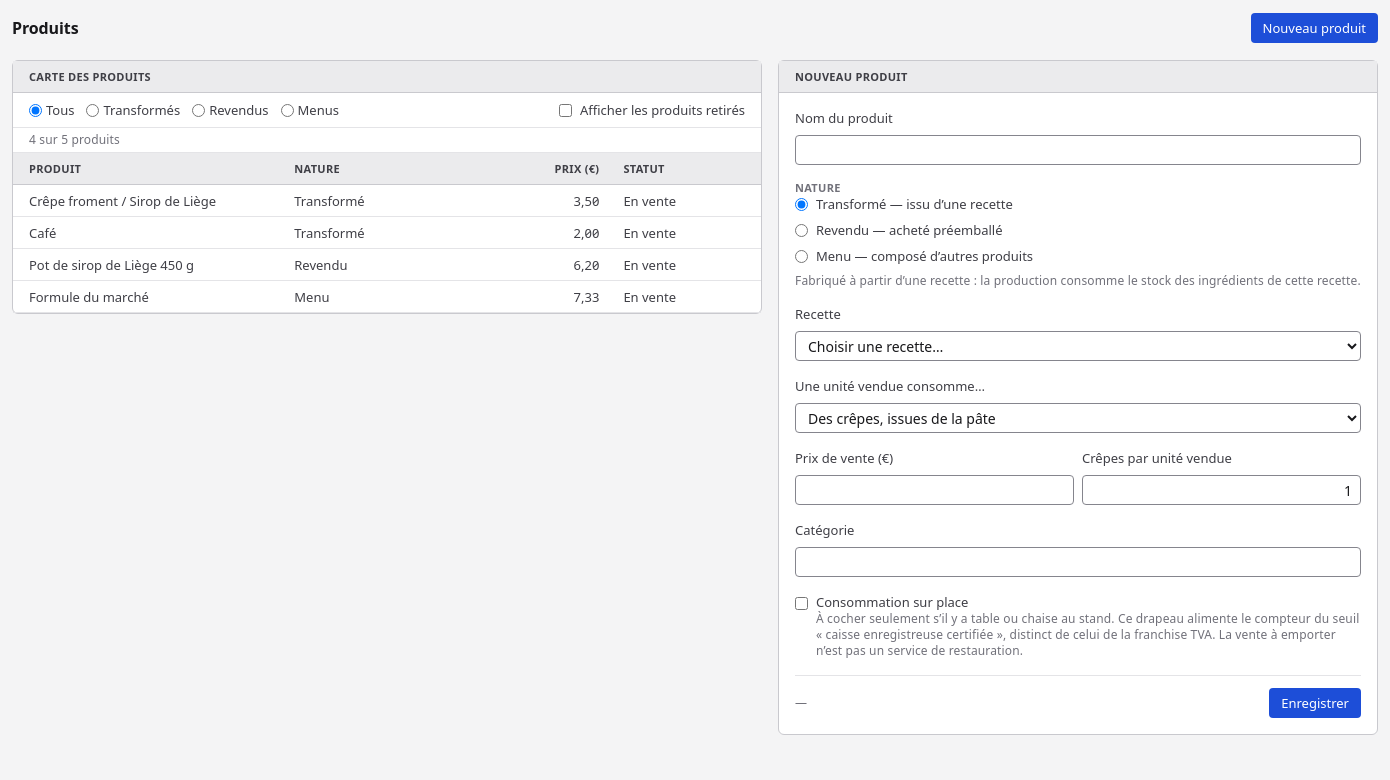
Test: Produits — un coût de revient inconnu ne vaut jamais zéro › un REVENDU sans conditionnement actif renvoie vers l’achat, pas vers une recette qu’il n’a pas
Click the row "Pot de sirop de Liège 450 g Revendu 6,20 En vente". click: {"x": 387, "y": 265}
box: [13,249,761,281]
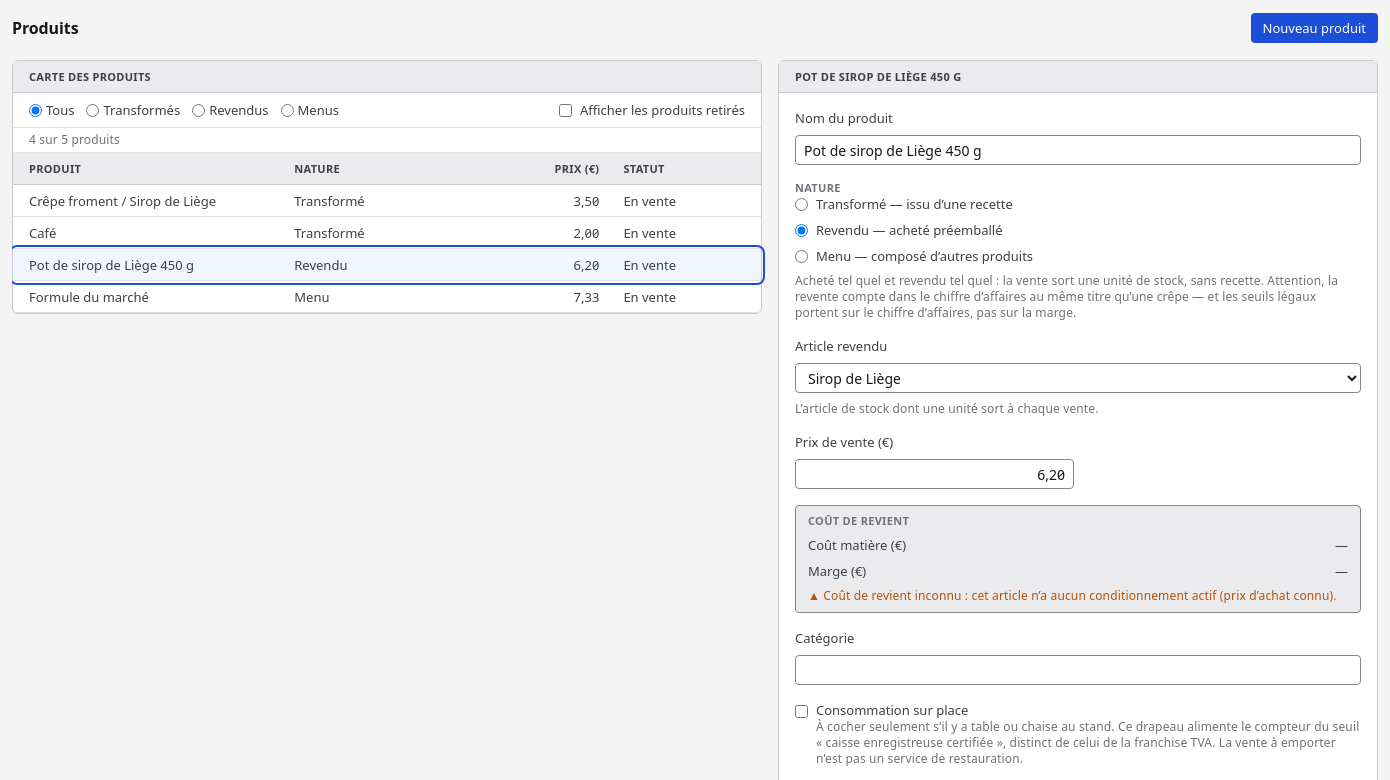
expect the message does not show "recette": met, box [808,588,1348,604]
expect the message shows "conditionnement actif": met, box [823,587,1337,604]
